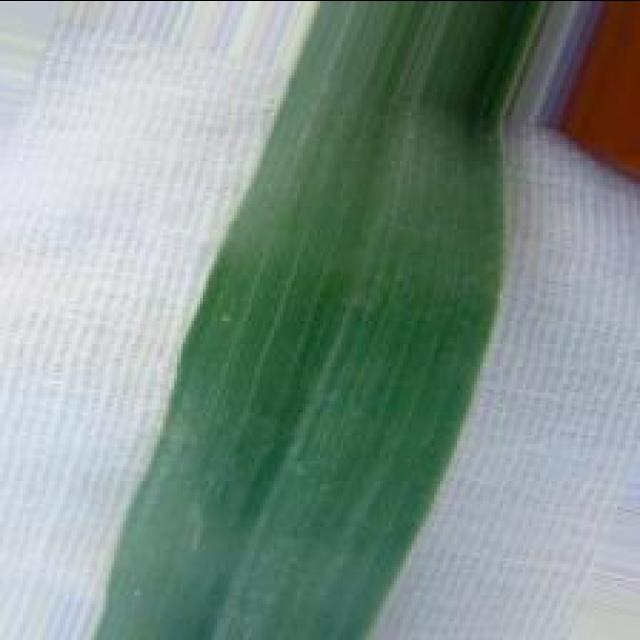Healthy: (96, 0, 548, 640)
